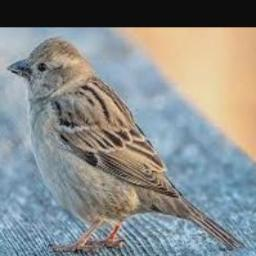Sparrow: (6, 36, 243, 252)
